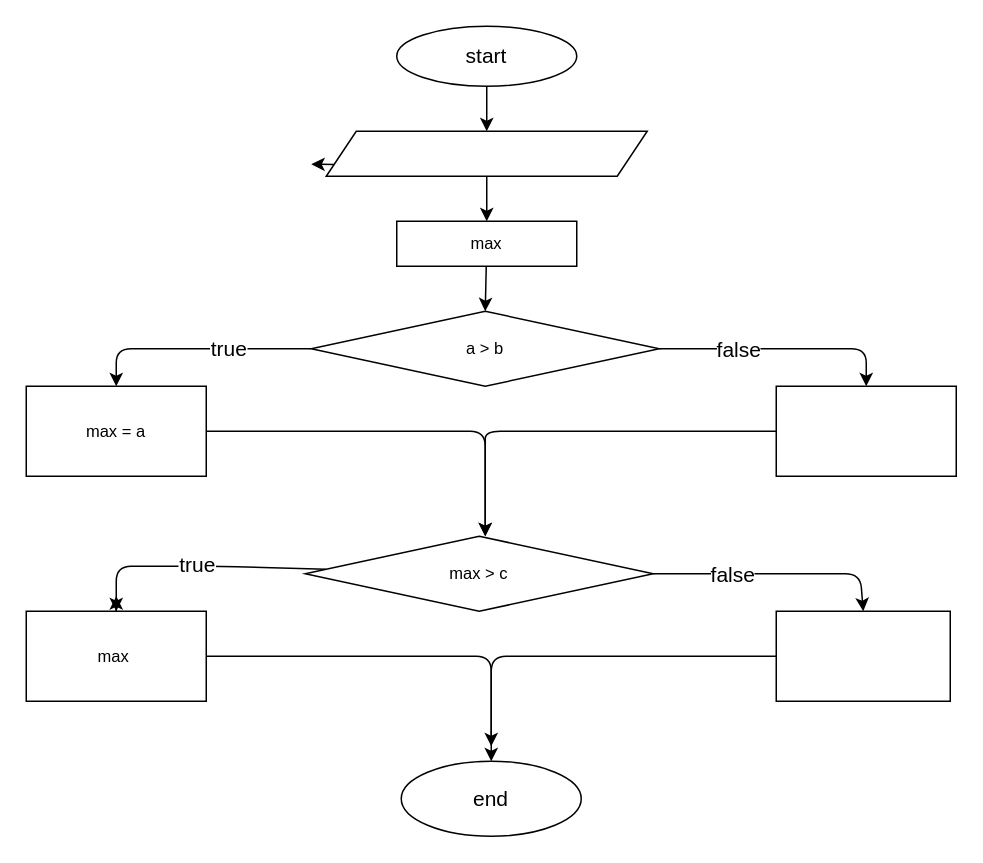
The diagram is 983 pixels wide and 863 high, and some of its shapes have lost their labels. Each missing label, with the centre of its shape:
a, b, c: [486,153]
max = b: [865,430]
max = c: [862,655]
